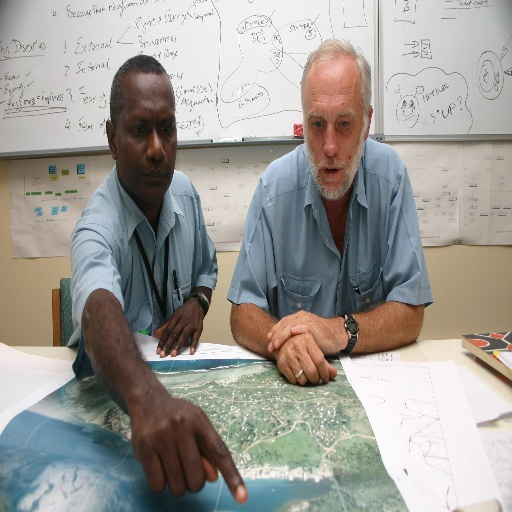hand: (125, 382, 236, 508), (264, 306, 346, 359), (272, 335, 340, 385), (153, 296, 206, 359)
